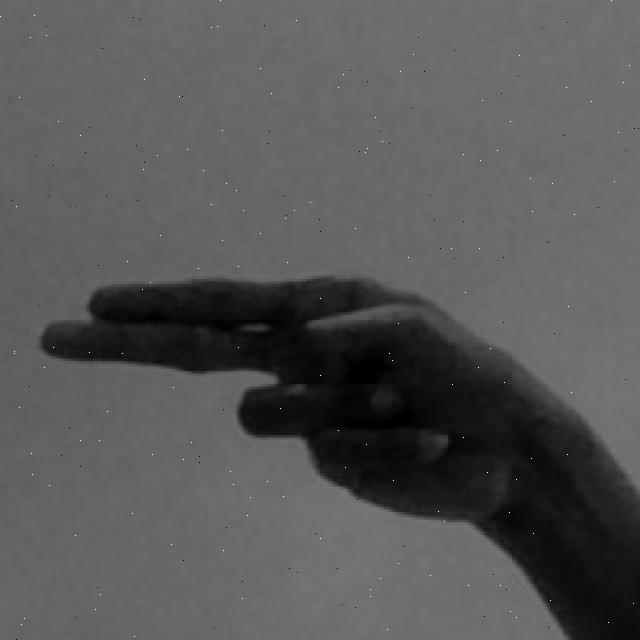H: (30, 263, 640, 629)
